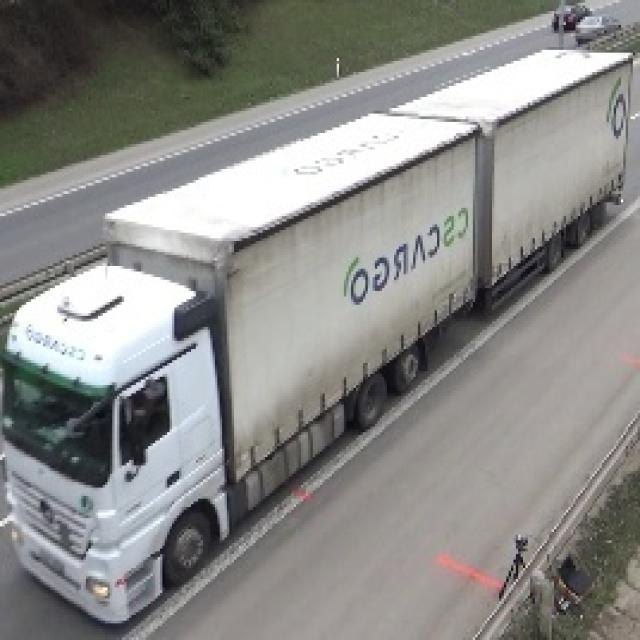TRUCK: (4, 65, 628, 632)
